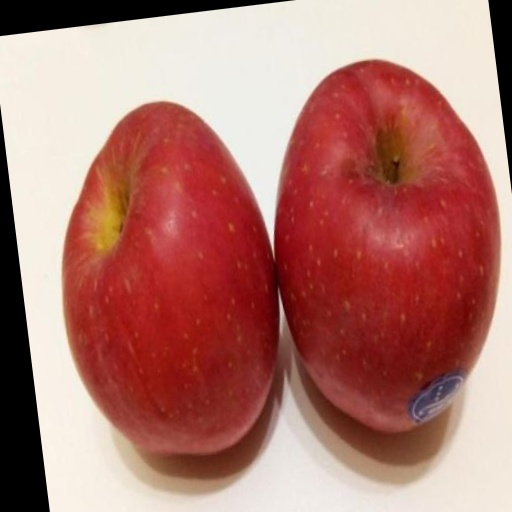fruit: (274, 61, 499, 431), (62, 103, 278, 454)
